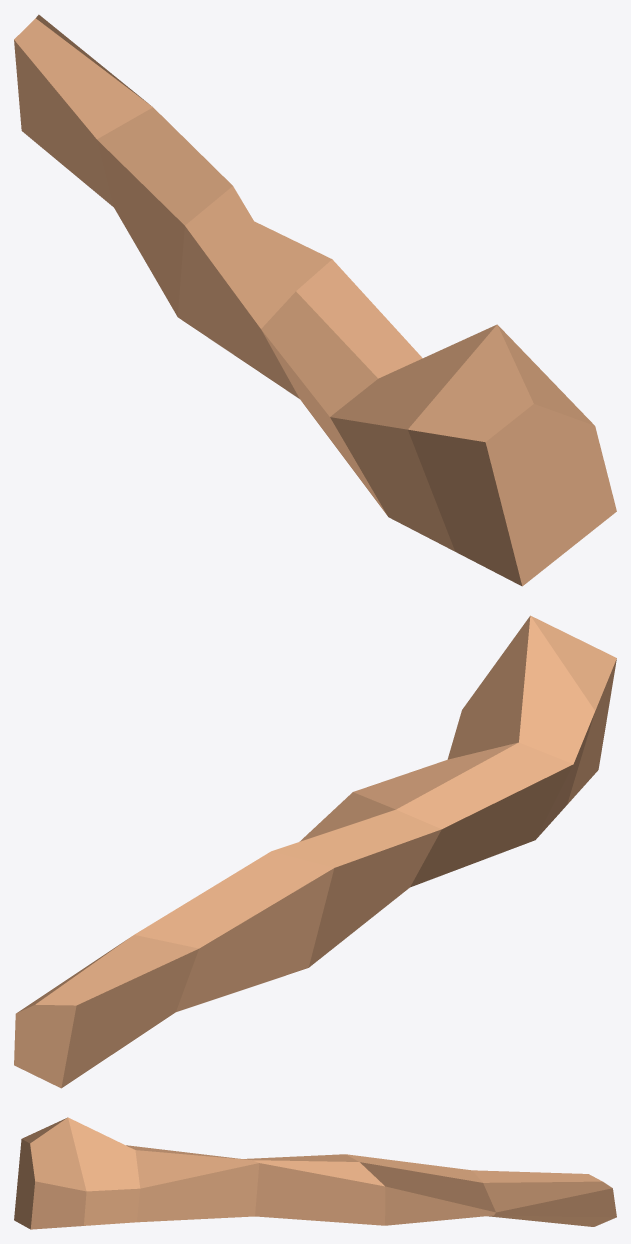
Rendered from Mountain_LeftSide.fbx.
The picture shows the model from 3 angles, top to bottom: view 1: azimuth 30°, elevation 25°; view 2: azimuth 150°, elevation 25°; view 3: azimuth 270°, elevation 25°; orthographic projection. The views are drawn at different scales.
Parts seen in each view (by area): view 1: Plane.002; view 2: Plane.002; view 3: Plane.002.
Boxes of the visible parts, bbox=[...] form: Plane.002: bbox=[14, 14, 616, 586]; Plane.002: bbox=[14, 615, 616, 1088]; Plane.002: bbox=[14, 1117, 616, 1229].
Bounding box in the file's own units: 1218 × 1310 × 6508.
